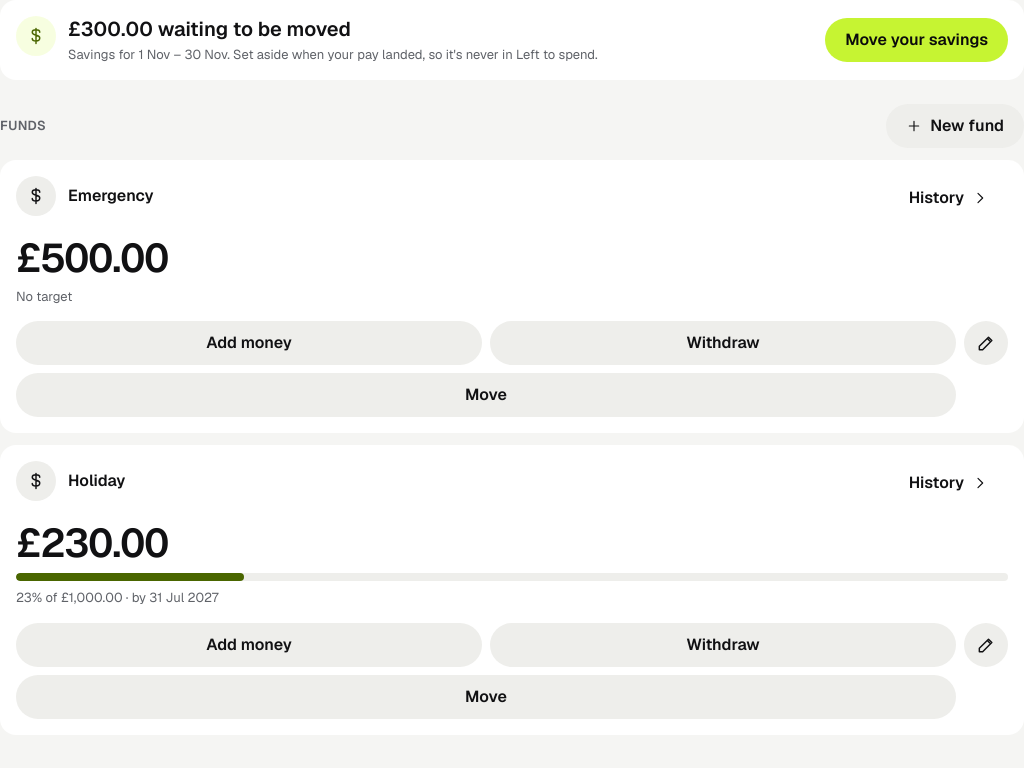
Test: SavingTab: funds › opens a fund's history: each movement with its date, and a fund-paid expense as money out
Click the button with aria-label "Holiday history": (948, 483) [889,461,1008,505]
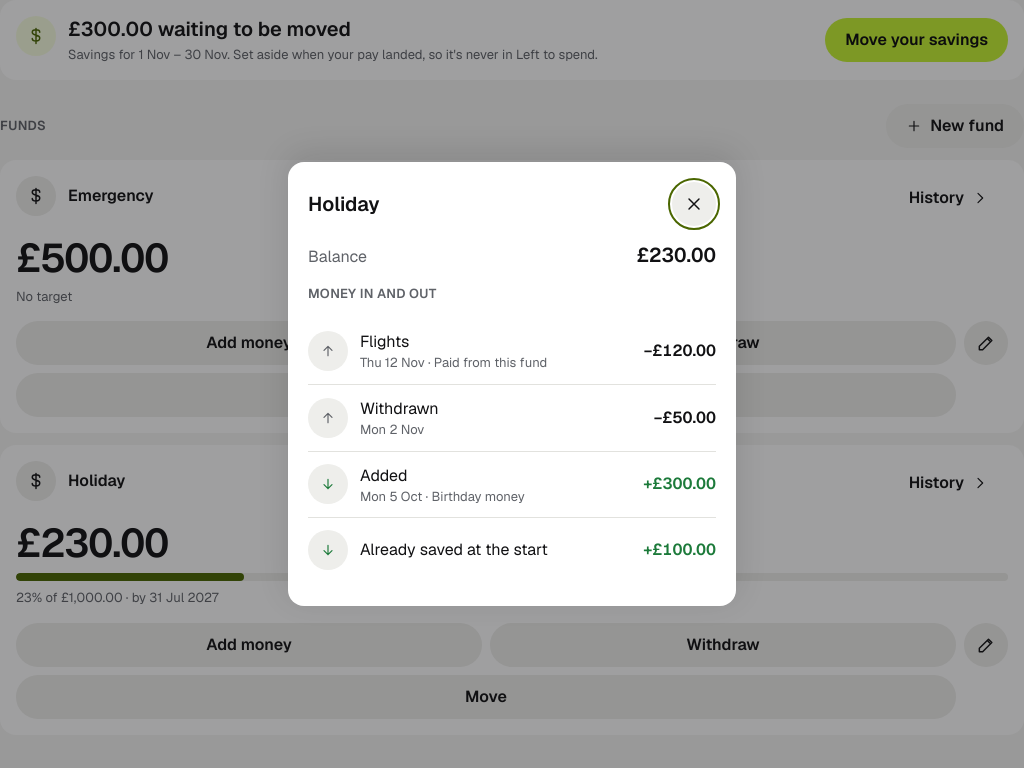
Now the list items read "FlightsThu 12 Nov · Paid from this fund−£120.00", "WithdrawnMon 2 Nov−£50.00", "AddedMon 5 Oct · Birthday money+£300.00", "Already saved at the start+£100.00", in this order, box [308,318,716,385]; [308,385,716,452]; [308,452,716,518]; [308,518,716,582]
